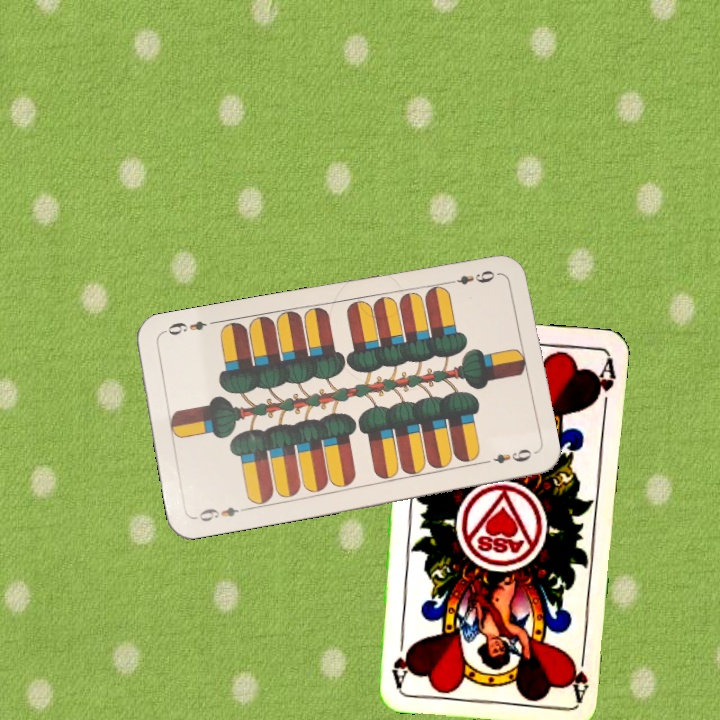E9: (191, 502, 250, 525), (444, 266, 503, 288)
HA: (564, 643, 592, 702)
